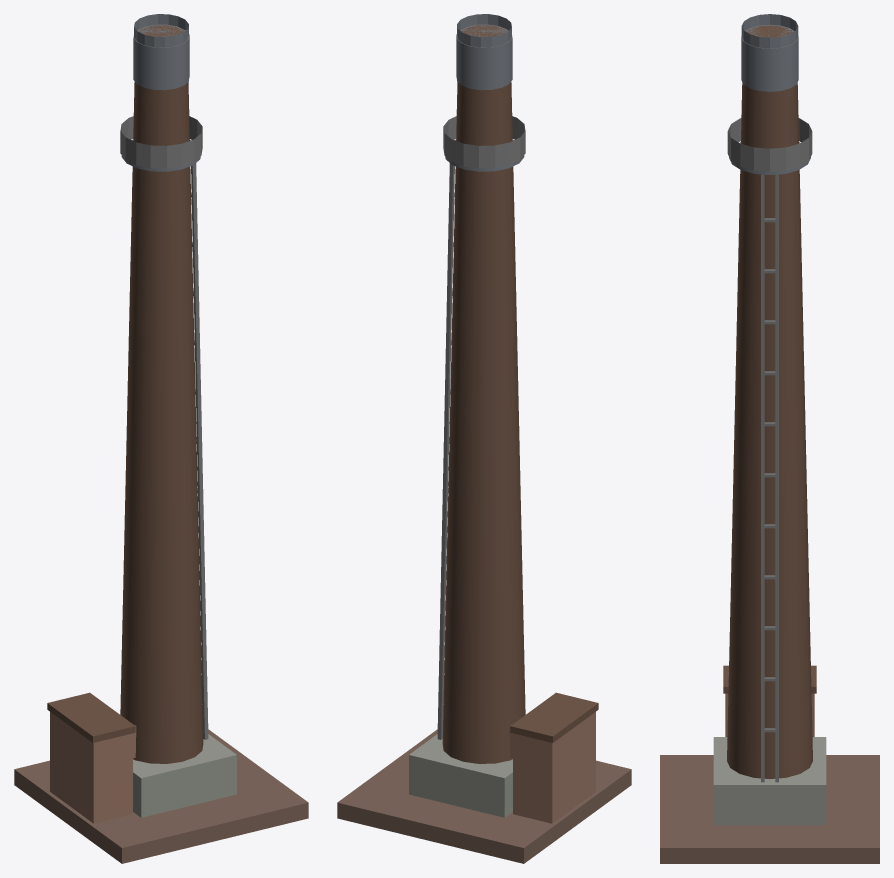
The model's file is mashup-chimney-mid-prebuilt.fbx.
3 views of the same model, side by side, from view 1: azimuth 30°, elevation 25°; view 2: azimuth 150°, elevation 25°; view 3: azimuth 270°, elevation 25° (orthographic).
Visible parts, largest first — view 1: a1023.Chimney; view 2: a1023.Chimney; view 3: a1023.Chimney.
Part boxes in pixels (<box>): a1023.Chimney: <box>14,14,308,863</box>; a1023.Chimney: <box>337,14,631,863</box>; a1023.Chimney: <box>660,14,879,863</box>.
Bounding box in the file's own units: 7.4 × 29.4 × 7.4.
